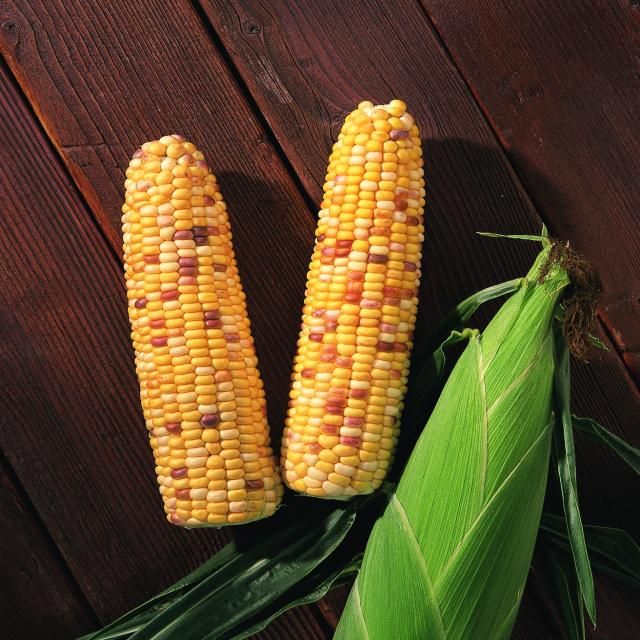corn: (97, 130, 282, 538), (264, 100, 438, 507)
